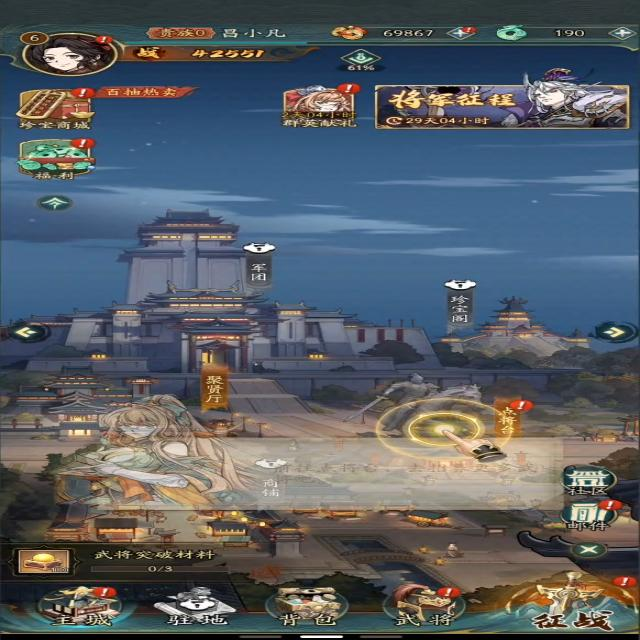hint-guide: (384, 398, 505, 462)
hint-reddot: (70, 86, 98, 103), (512, 396, 539, 412), (334, 81, 362, 95), (435, 586, 464, 599), (71, 136, 97, 150), (600, 498, 626, 512), (89, 586, 117, 598), (614, 573, 636, 588), (94, 34, 117, 46), (458, 24, 481, 35)
navigation-bag: (262, 585, 354, 629)
navigation-community: (548, 463, 622, 497)
navigation-dianjiangtai: (496, 398, 519, 439)
navigation-fight: (492, 571, 640, 633)
navigation-hero: (376, 584, 470, 630)
navigation-juntuan-off: (242, 242, 282, 288)
navigation-juxianting: (193, 359, 233, 410)
navigation-mail: (557, 498, 624, 533)
navigation-main: (23, 582, 131, 630)
navigation-role: (10, 27, 130, 83)
navigation-station-off: (148, 586, 246, 630)
navigation-treasureMall: (15, 84, 94, 132)
navigation-welfare: (10, 135, 101, 186)
navigation-zhenbaoge-off: (444, 278, 481, 327)
operation-close: (567, 541, 610, 560)
